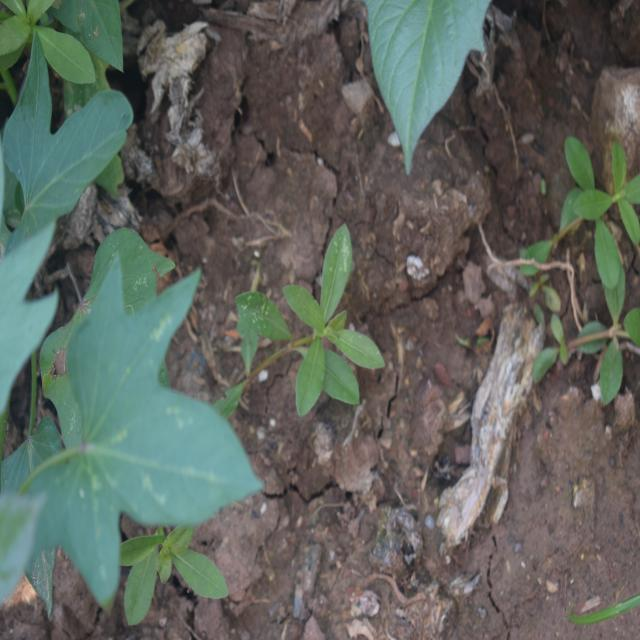Alligatorweed: (230, 220, 396, 423)
